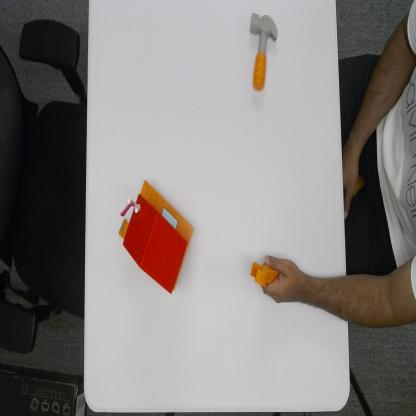Arm: (307, 256, 416, 331)
Hammer: (248, 9, 279, 95)
Hand: (263, 253, 306, 306)
House: (118, 176, 195, 296)
Screwdriver: (248, 259, 280, 289)
